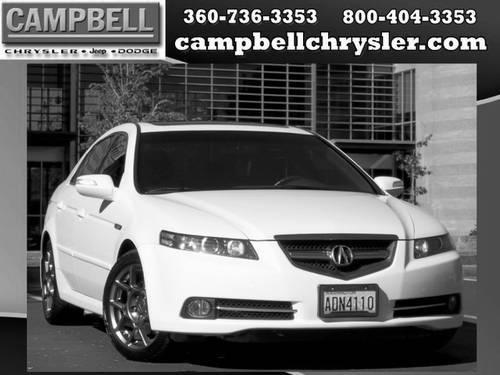car: (40, 119, 466, 364)
